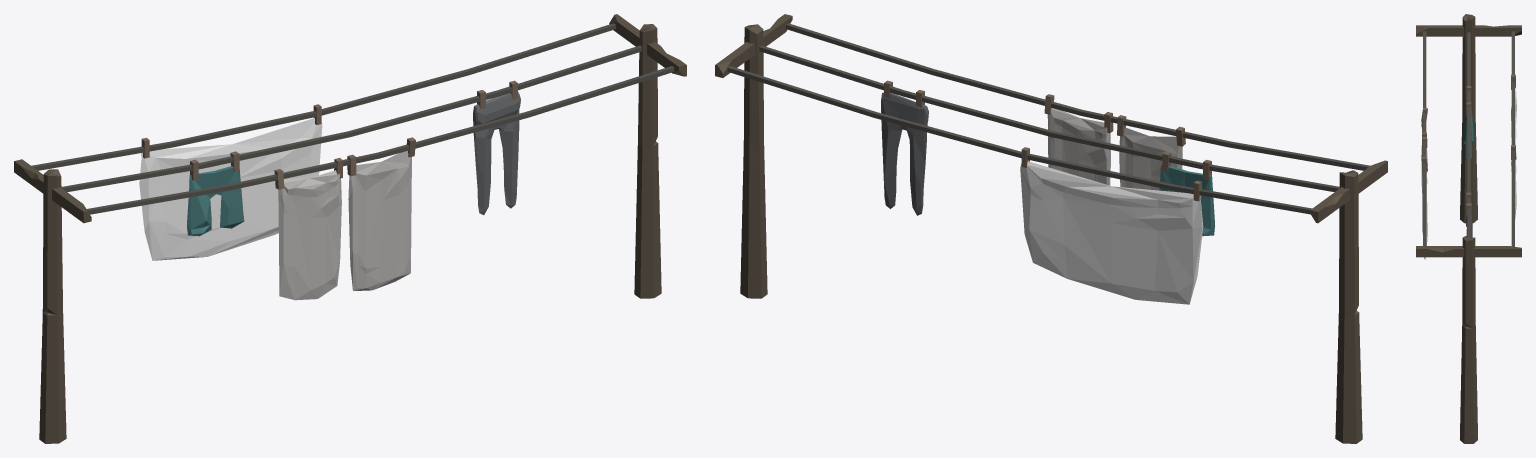
File: SM_Prop_WashingLine_02.fbx
3 renders of one model, left to right at view 1: azimuth 30°, elevation 25°; view 2: azimuth 150°, elevation 25°; view 3: azimuth 270°, elevation 25°, orthographic. The views are drawn at different scales.
Parts seen in each view (by area): view 1: SM_Prop_WashingLine_02; view 2: SM_Prop_WashingLine_02; view 3: SM_Prop_WashingLine_02.
Part boxes in pixels (box(x1,y1,x2,y2)): SM_Prop_WashingLine_02: box(14, 14, 686, 443); SM_Prop_WashingLine_02: box(715, 14, 1387, 443); SM_Prop_WashingLine_02: box(1416, 14, 1521, 443).
Bounding box in the file's own units: 549 × 227 × 107.
